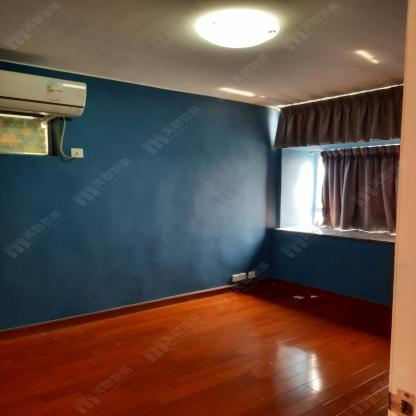AC: (0, 70, 88, 118)
Windowsill: (273, 137, 401, 246)
